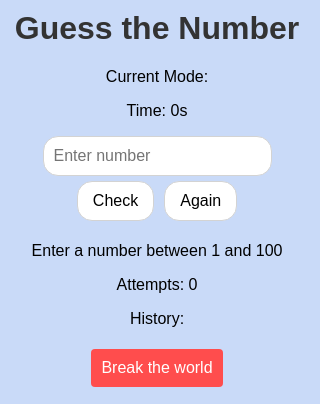
Test: Кнопка Again скидає повідомлення до початкового
Click the button "Again" at (201, 201), box [164, 181, 237, 221]
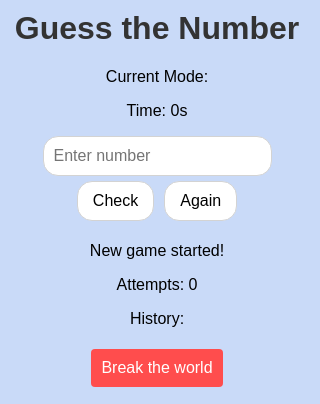
Expected: the text "New game started!" is shown, [90, 242, 224, 259]
